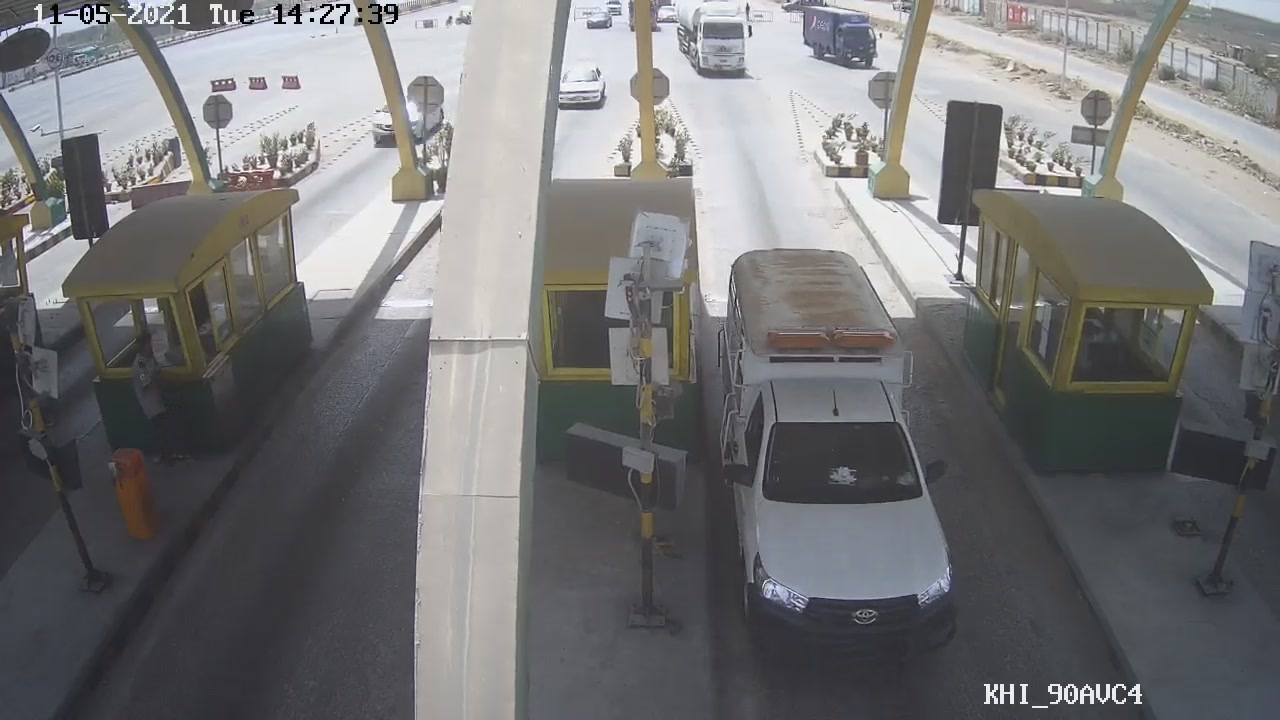F1: (717, 247, 960, 670)
